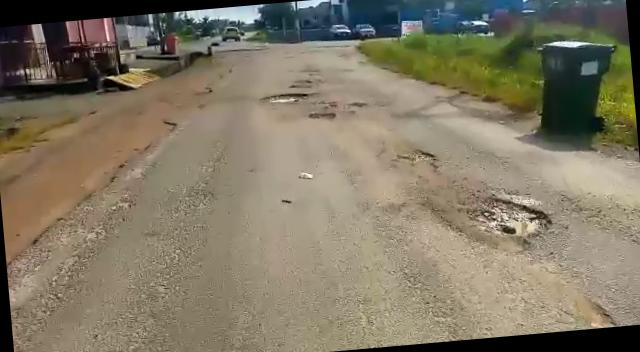pothole: (466, 190, 556, 244), (387, 144, 440, 170), (259, 90, 310, 104), (308, 108, 344, 122)
